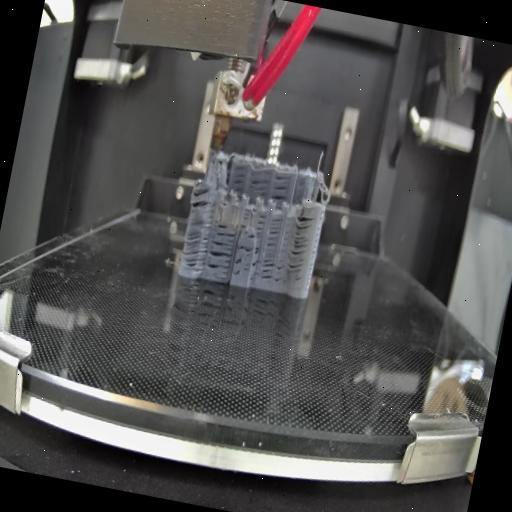cracks: (286, 213, 316, 279), (179, 219, 213, 273), (206, 236, 236, 278), (249, 260, 286, 287), (188, 184, 215, 215), (270, 172, 294, 204), (247, 170, 273, 198), (266, 214, 284, 252), (215, 218, 239, 242), (230, 166, 249, 192), (238, 242, 260, 258), (254, 212, 268, 236), (240, 206, 253, 230), (232, 258, 242, 278), (247, 233, 258, 240)
